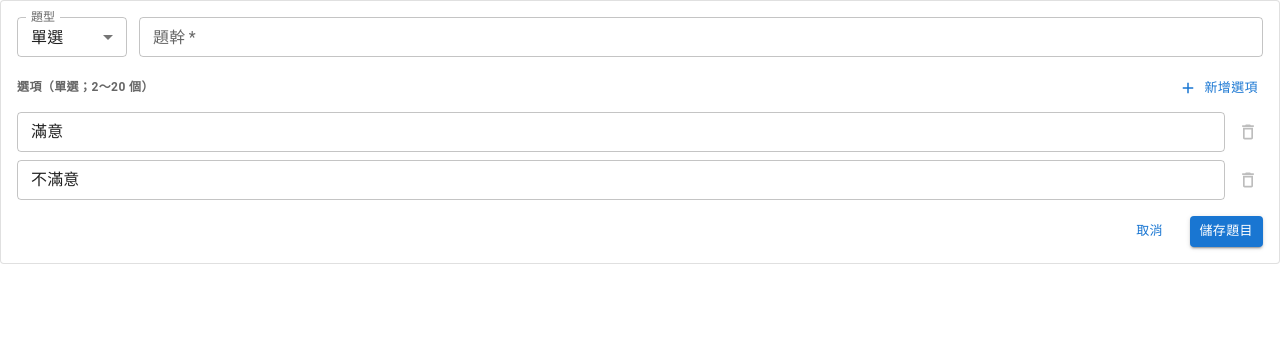
問卷題目編輯器：單選題 › 題幹留空時顯示錯誤且不送出
Click the button "儲存題目" at (1226, 231), box left=1190, top=216, right=1263, bottom=247
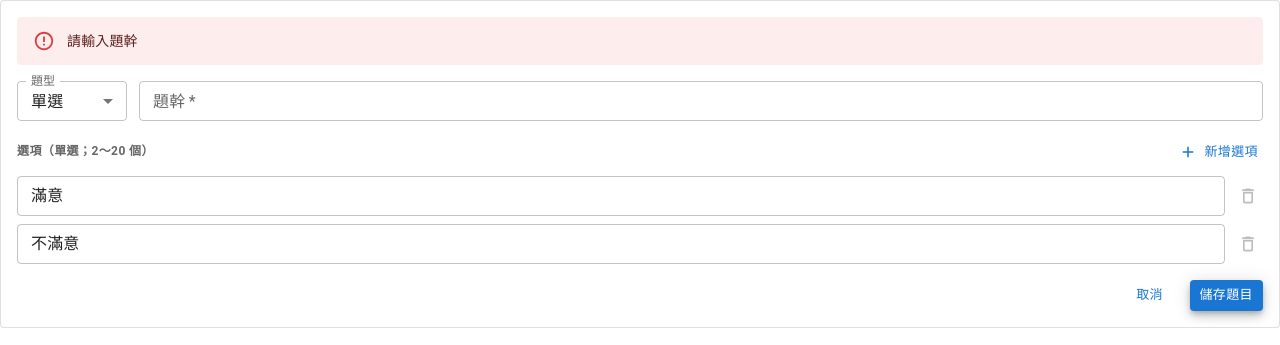
Expected: the text "請輸入題幹" is shown, left=67, top=33, right=138, bottom=49
